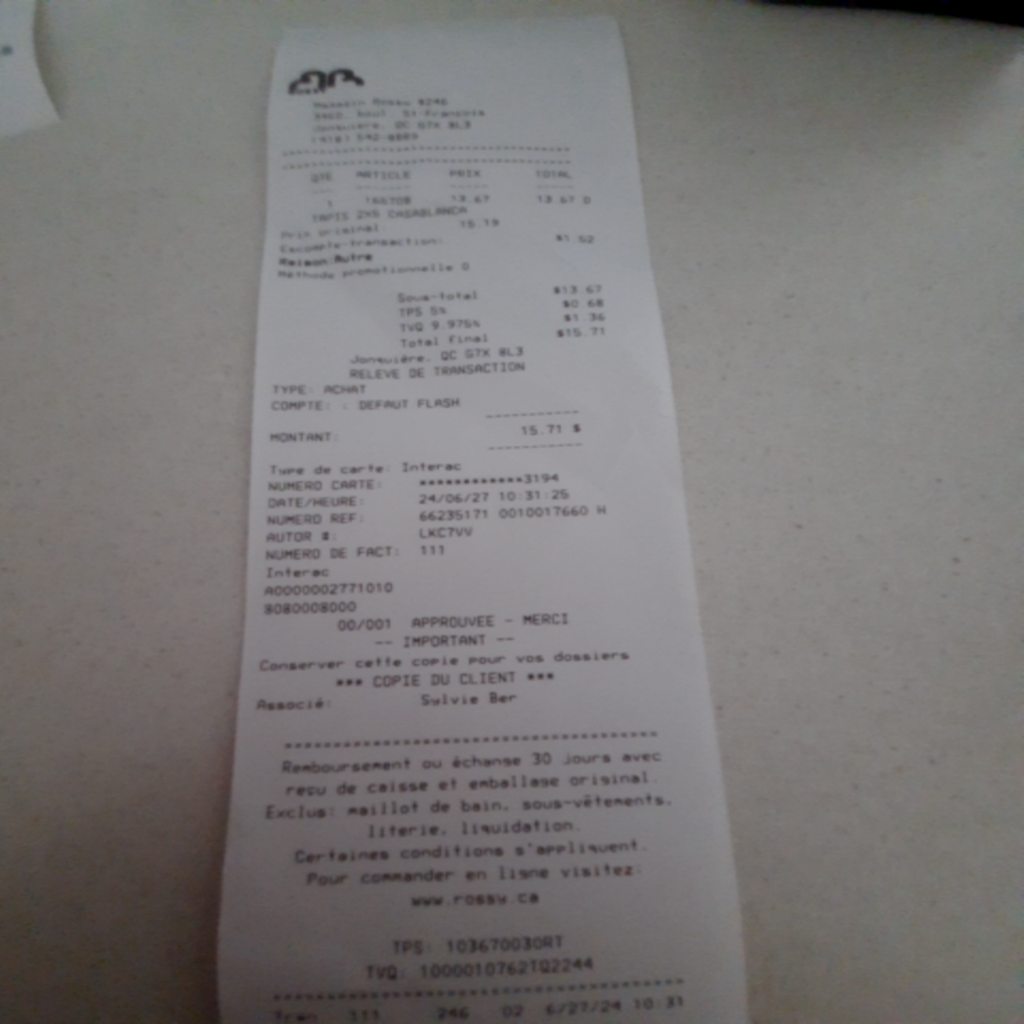recipt: (218, 19, 751, 1024)
